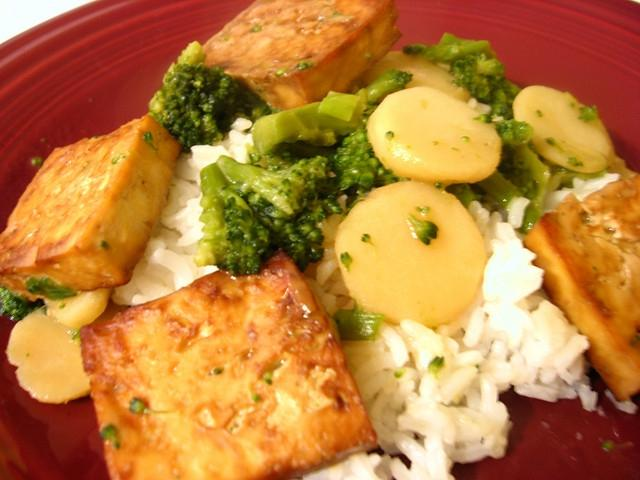broccoli: (196, 155, 344, 278), (148, 42, 270, 154), (250, 88, 378, 156), (475, 120, 551, 234), (336, 122, 398, 192), (402, 31, 489, 66), (449, 52, 506, 104), (332, 310, 384, 341), (0, 286, 42, 321), (316, 90, 359, 122), (409, 214, 438, 244)
